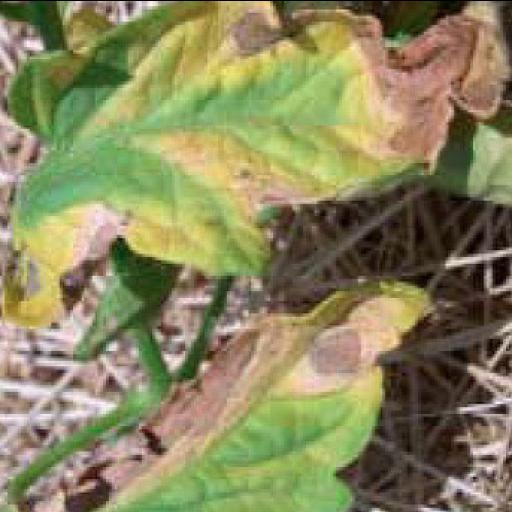disease_tomato: (12, 3, 512, 287), (100, 295, 445, 509)
